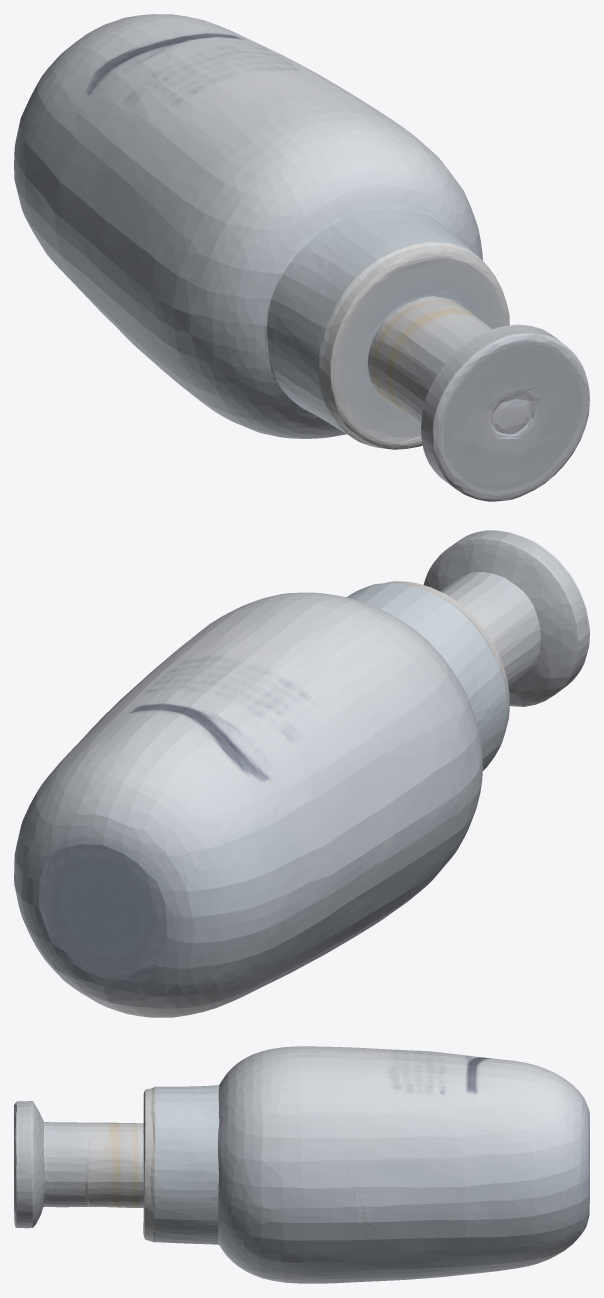
3 views of the same model, one above another, from view 1: azimuth 30°, elevation 25°; view 2: azimuth 150°, elevation 25°; view 3: azimuth 270°, elevation 25° (orthographic). The views are drawn at different scales.
Parts seen in each view (by area): view 1: world; view 2: world; view 3: world.
Part boxes in pixels (x1,y1,x2,y2): world: [14, 14, 589, 501]; world: [14, 530, 589, 1017]; world: [14, 1046, 589, 1283].
Size of the model in its own units: 0.4238 by 0.4103 by 0.9995.
Materials: 1 (1 with a texture image).
